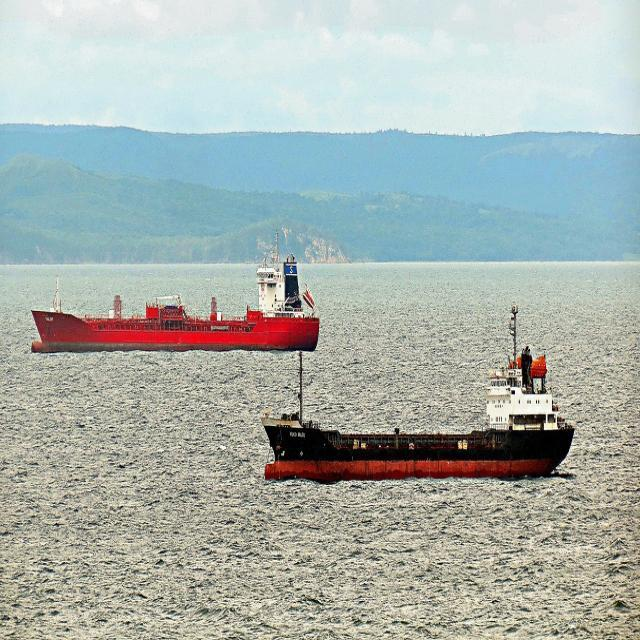Tanker: (262, 306, 573, 482), (31, 255, 319, 352)
